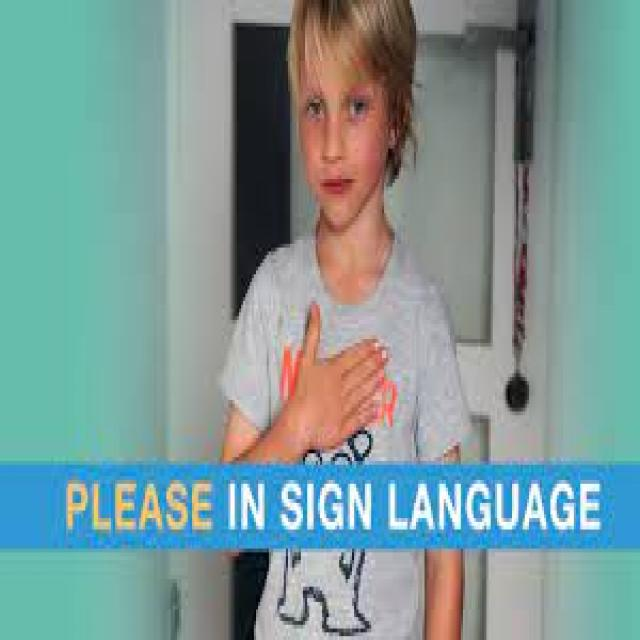Please: (254, 240, 412, 484)
